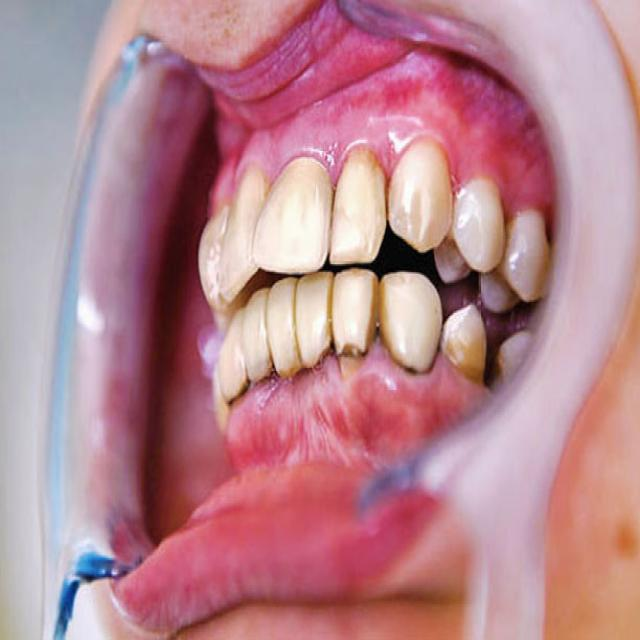caries: (336, 332, 370, 382), (253, 353, 286, 400), (224, 369, 251, 411), (286, 350, 312, 390), (312, 332, 334, 377), (397, 353, 424, 388)
